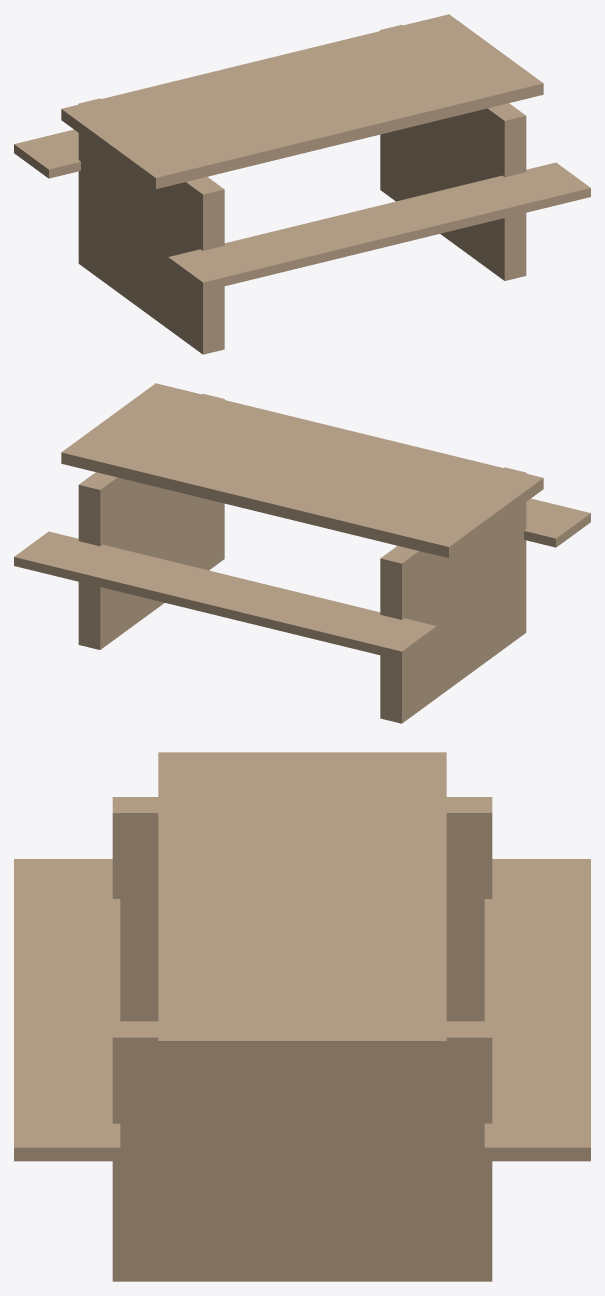
File: picnic-table-far.glb
3 views of the same model, one above another, from view 1: azimuth 30°, elevation 25°; view 2: azimuth 150°, elevation 25°; view 3: azimuth 270°, elevation 25° (orthographic). The views are drawn at different scales.
Visible parts, largest first — view 1: picnic-table-far; view 2: picnic-table-far; view 3: picnic-table-far.
Part boxes in pixels (bbox=[...]): picnic-table-far: bbox=[14, 14, 590, 354]; picnic-table-far: bbox=[14, 383, 590, 723]; picnic-table-far: bbox=[14, 752, 590, 1281].
Bounding box in the file's own units: 2.26 × 0.967 × 1.91.
